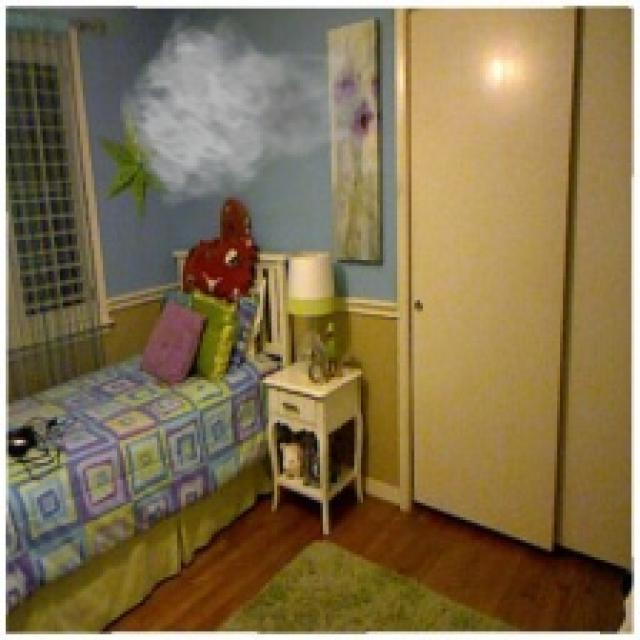Smoke: (117, 8, 374, 208)
